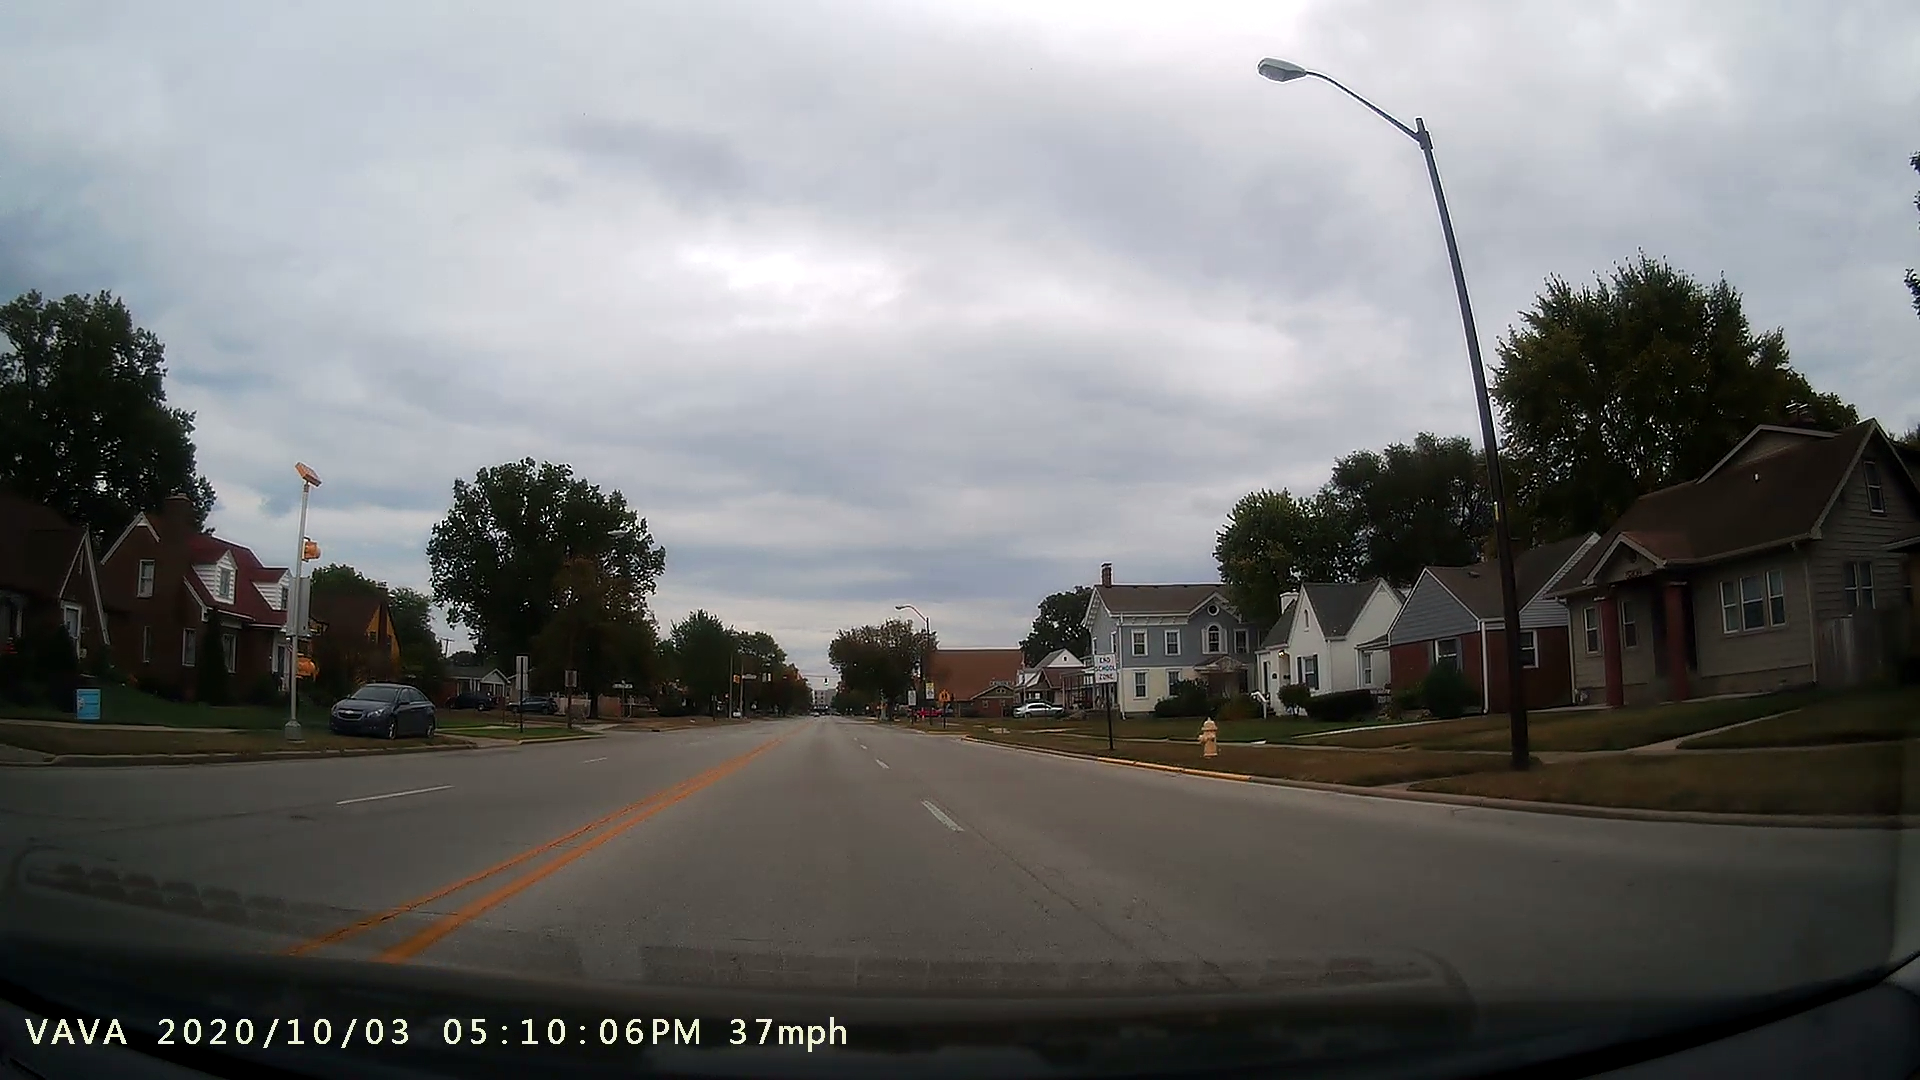fire_hydrant: (1185, 705, 1233, 766)
